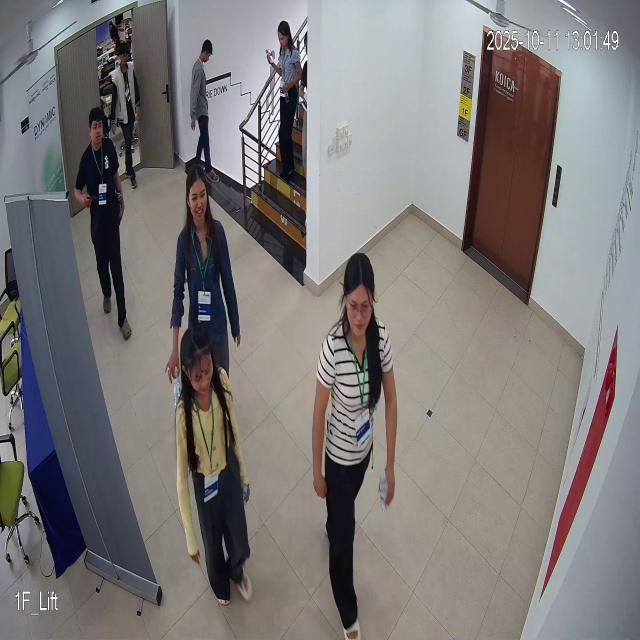face: (342, 250, 378, 333), (182, 162, 214, 223), (87, 106, 106, 149)
